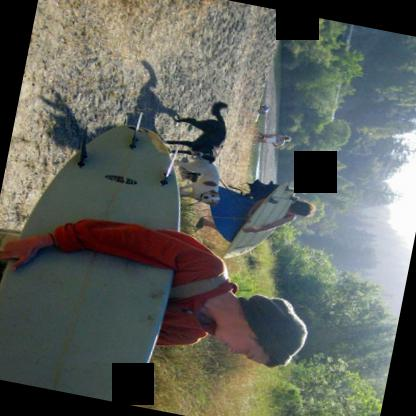backpack: (226, 178, 278, 197)
